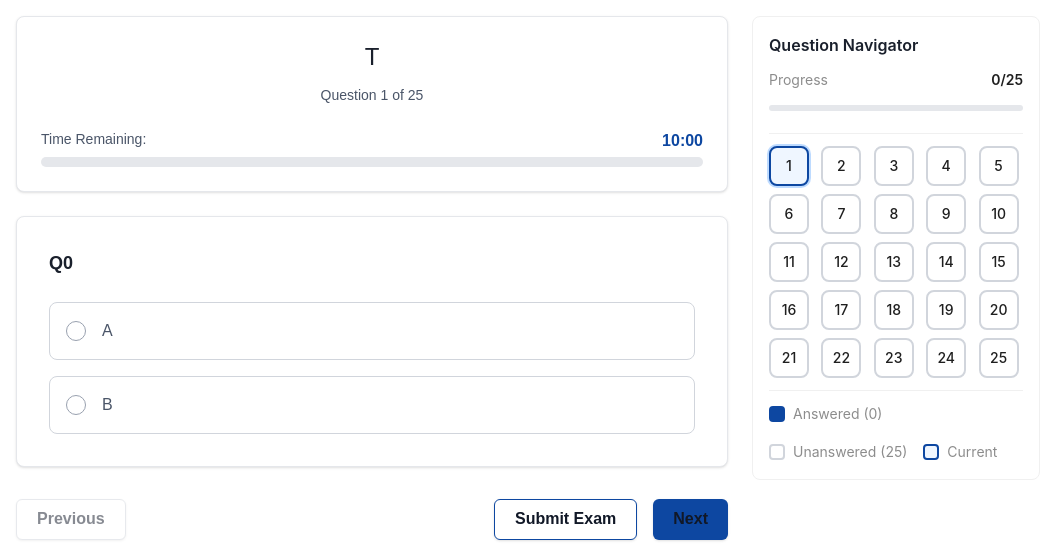
Scenario: TakeExamPage - Student Exam Taking Logic › TC_Exam_Navigation_002
Click the button "Next" at (691, 520), box [653,499,728,540]
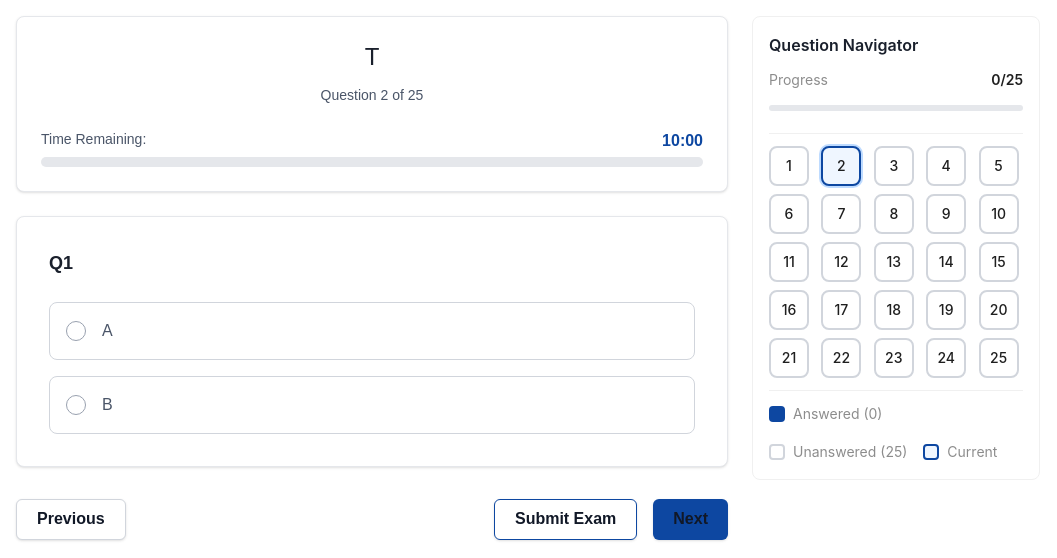
Expected: the text "Q1" is shown, [49,253,73,273]
